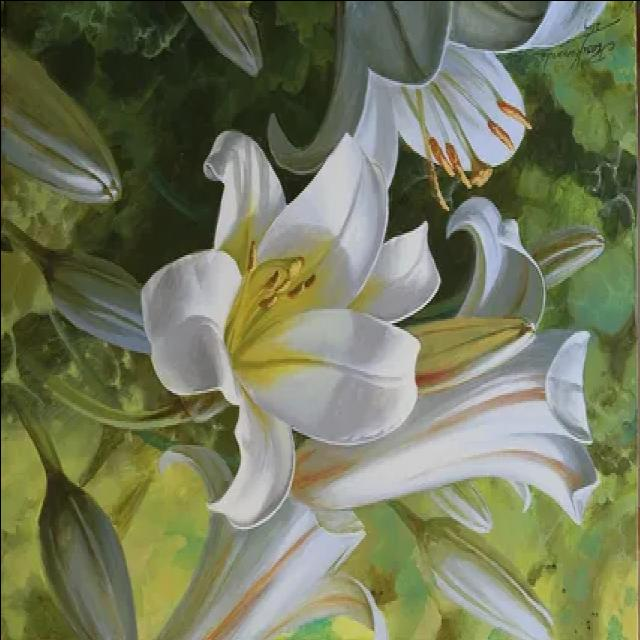lily: (141, 120, 451, 534)
